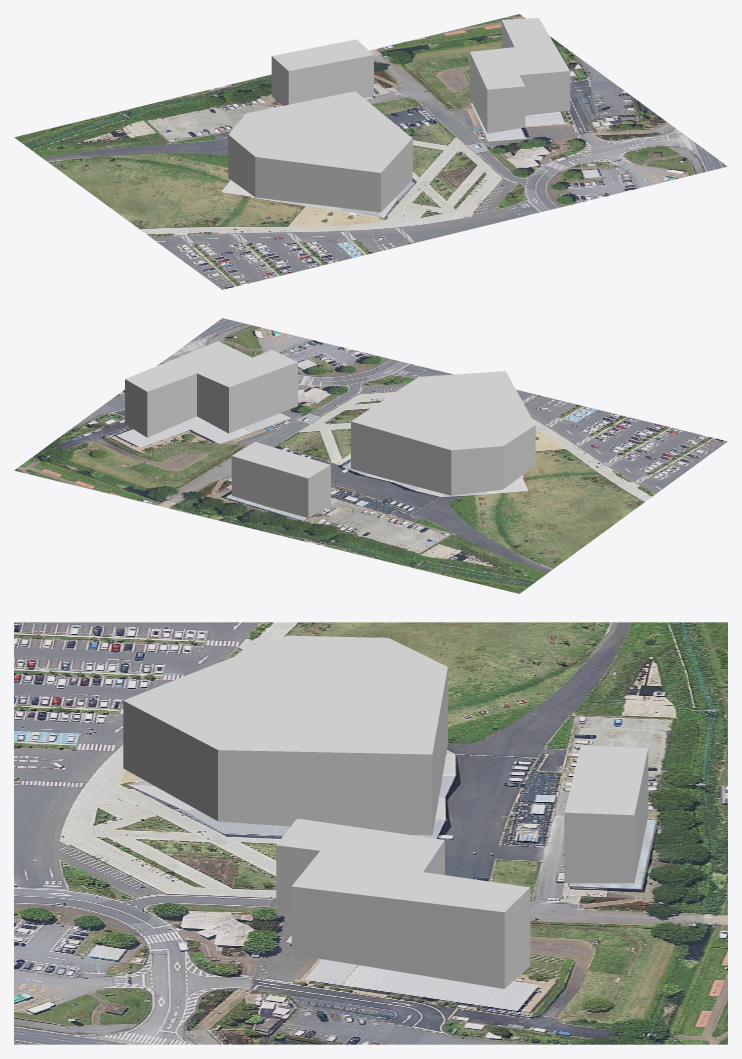
Rendered from mitinoeki.glb.
3 views of the same model, one above another, from view 1: azimuth 30°, elevation 25°; view 2: azimuth 150°, elevation 25°; view 3: azimuth 270°, elevation 25° (orthographic). The views are drawn at different scales.
Visible parts, largest first — view 1: EXPORT_GOOGLE_SAT_WM, Areas:building; view 2: EXPORT_GOOGLE_SAT_WM, Areas:building; view 3: EXPORT_GOOGLE_SAT_WM, Areas:building.
Boxes of the visible parts, left/top/right/bottom form: EXPORT_GOOGLE_SAT_WM: left=14, top=14, right=727, bottom=289; Areas:building: left=228, top=18, right=570, bottom=212; EXPORT_GOOGLE_SAT_WM: left=14, top=318, right=727, bottom=593; Areas:building: left=125, top=341, right=535, bottom=517; EXPORT_GOOGLE_SAT_WM: left=14, top=622, right=727, bottom=1044; Areas:building: left=123, top=635, right=648, bottom=988.
Size of the model in its own units: 268 by 28.17 by 191.
Materials: 1 (1 with a texture image).
